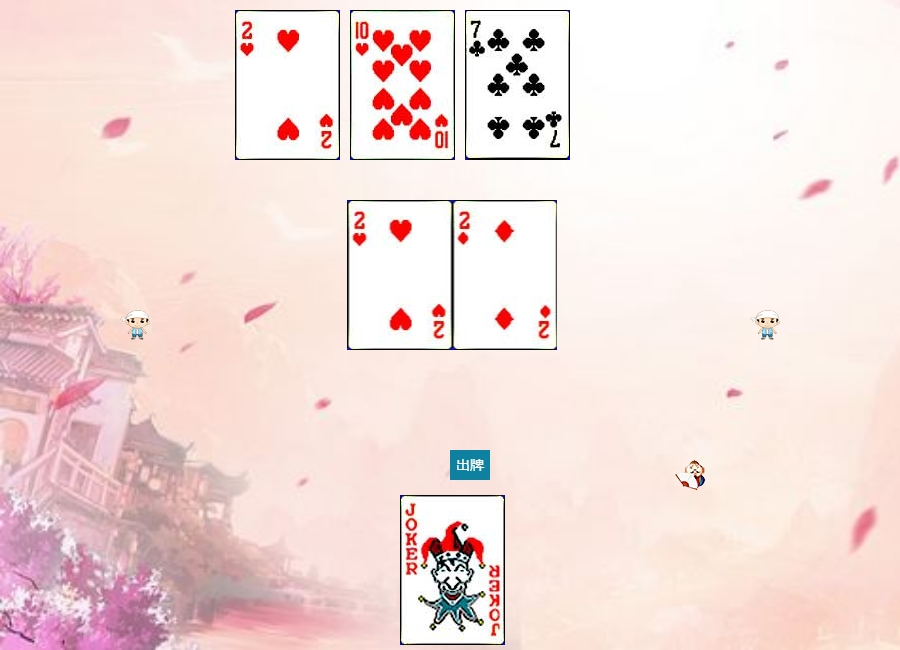10~3: (350, 10, 455, 160)
15~1: (453, 200, 558, 350)
15~3: (235, 10, 340, 160), (348, 200, 453, 350)
18~4: (400, 495, 505, 645)
7~2: (465, 10, 570, 160)
